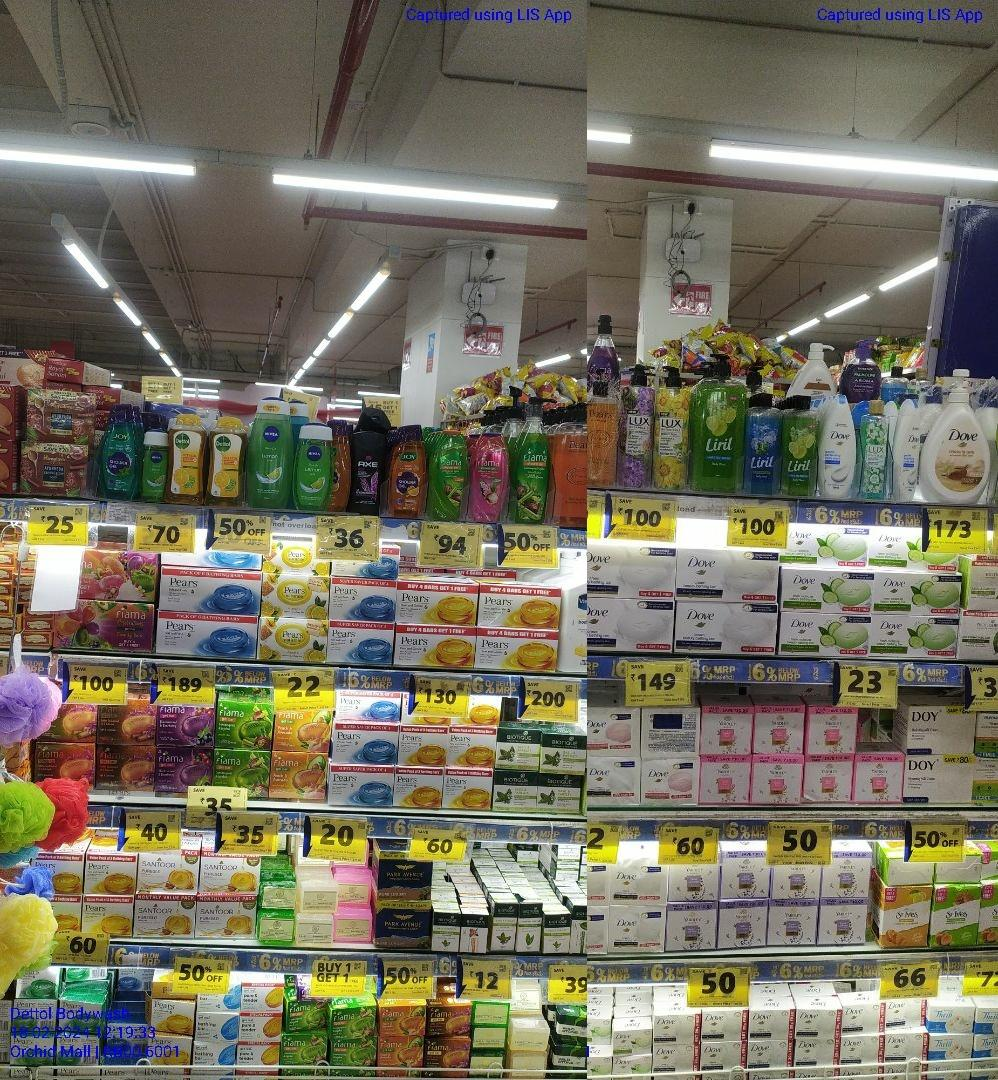Dettol_Bodywash_Refresh: (166, 415, 207, 505), (208, 417, 245, 506)
Dove_Gentle_Exfoliating_Body_Wash_250ML: (819, 394, 855, 497)
Fiama_Shower_Gel_Lemongrass_and_Jojoba_250ML: (429, 429, 467, 521)
Fiama_Shower_Gel_Patchouli_and_Macadamia_250ML: (469, 428, 507, 526)
Joy_Shower_Gel_Mandarin_and_Lemongrass_250ML: (388, 424, 424, 517)
Joy_Shower_Gel_Mint_and_Eucalyptus_250ML: (100, 402, 139, 500)
Liril_Cooling_Mint_Body_Wash_250ML: (746, 394, 779, 495)
Liril_Lime_and_Tea_Tree_Oil_Body_Wash_250ML: (780, 394, 817, 495)
Lux_Body_Wash_Skin_Detox_Freesia_Scent_and_Alove_Vera_245ML: (861, 398, 887, 499)
Nivea_Shower_Gel_Lemon_and_Oil_250ML: (248, 398, 292, 508), (294, 425, 331, 507)
